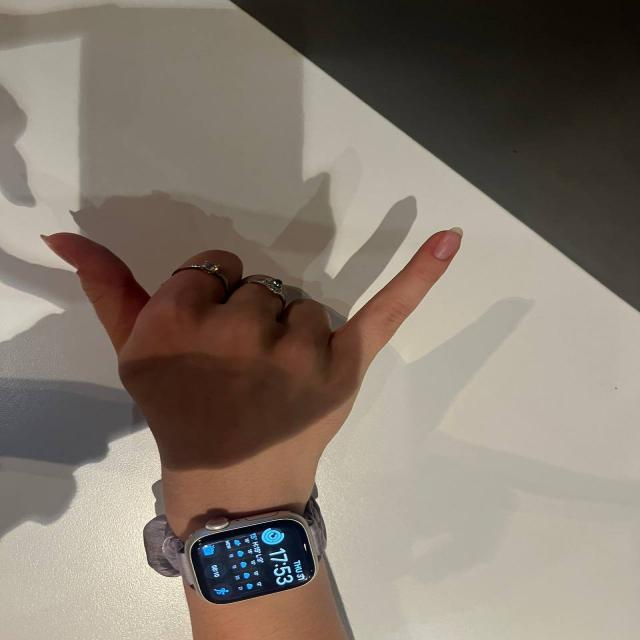u: (33, 173, 507, 467)
